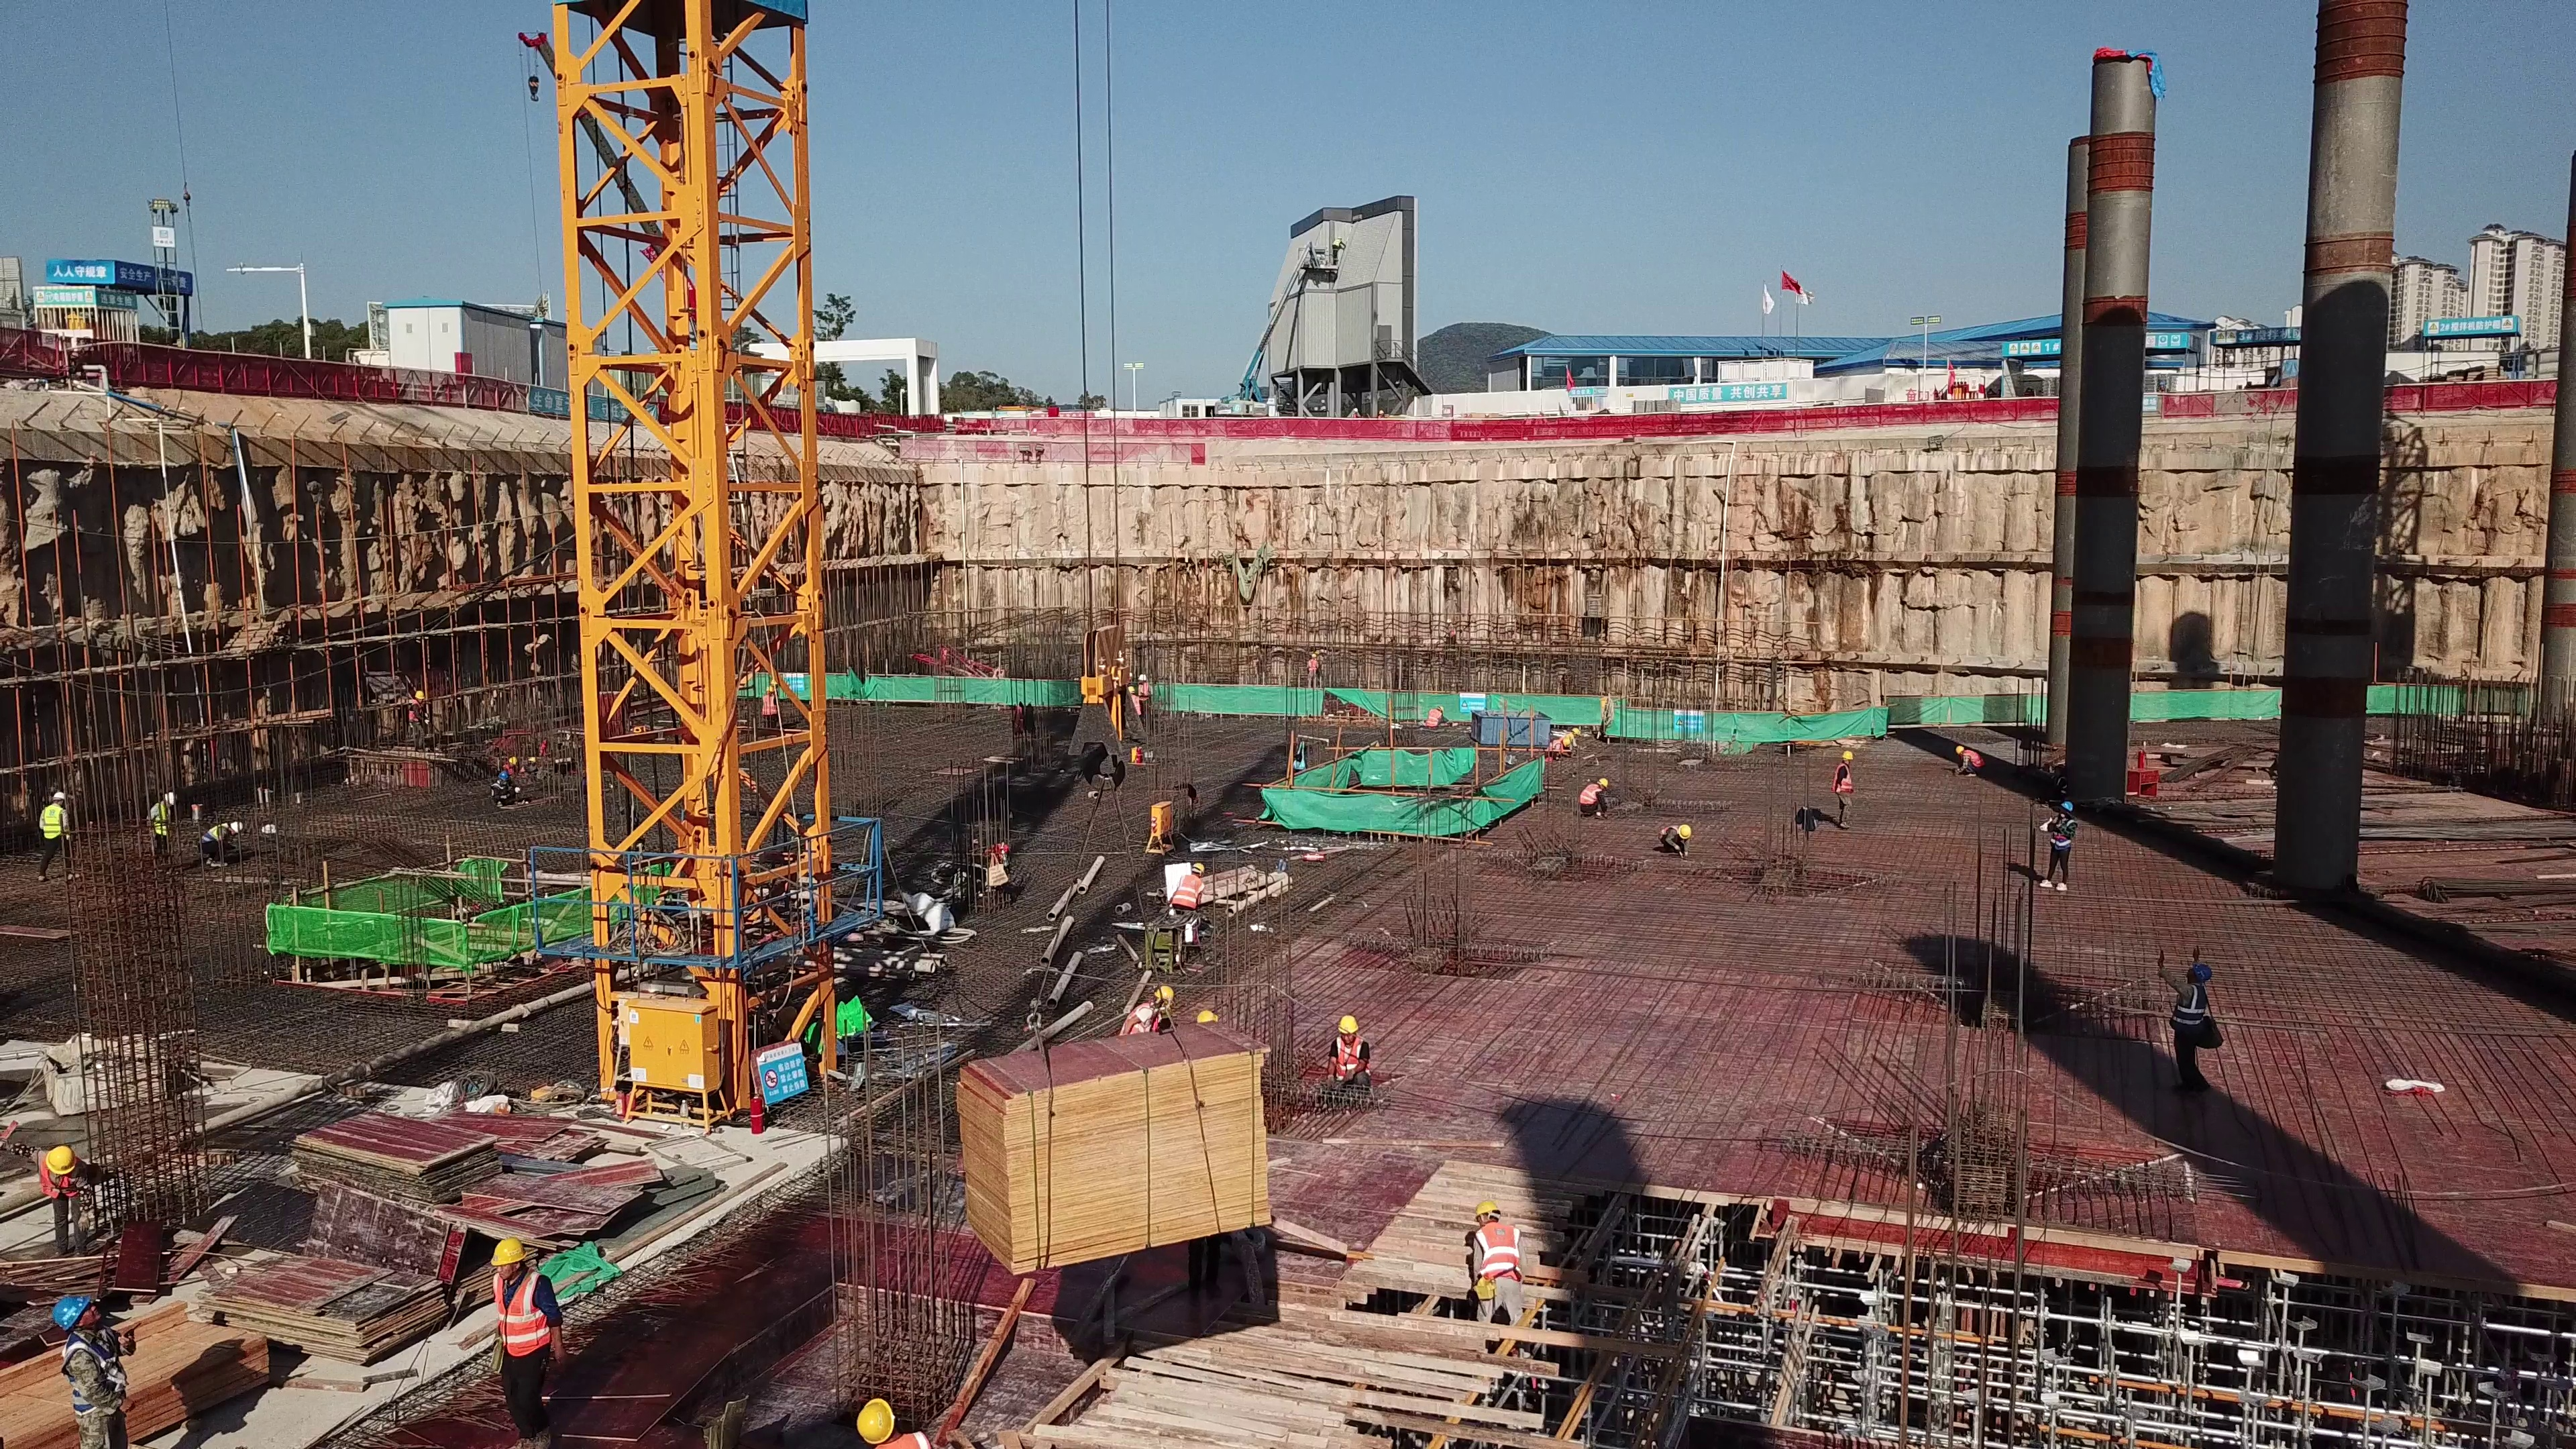board: (940, 1002, 1332, 1244), (272, 1090, 468, 1366)
brick: (1629, 394, 1682, 414)
ebox: (628, 983, 717, 1124), (1146, 802, 1177, 853)
fence: (155, 332, 452, 405), (1506, 414, 1778, 433)
helmet: (54, 1283, 93, 1326), (857, 1401, 898, 1438), (493, 1240, 532, 1274), (42, 1144, 75, 1171), (1192, 1000, 1219, 1030), (1471, 1197, 1503, 1215), (1333, 1010, 1359, 1032), (2192, 963, 2213, 981), (1157, 983, 1171, 1001), (1678, 824, 1693, 840), (164, 789, 177, 805), (231, 818, 244, 833), (1193, 861, 1204, 875), (1838, 750, 1854, 761), (2053, 799, 2070, 810), (1598, 777, 1612, 788), (1953, 745, 1966, 755), (52, 792, 66, 800), (1562, 736, 1569, 748), (1570, 728, 1581, 735), (1127, 686, 1138, 694), (1136, 674, 1147, 681), (1310, 651, 1320, 657)
hook: (1076, 628, 1135, 786), (519, 58, 541, 115)
hopper: (1464, 707, 1552, 745)
person: (474, 1228, 580, 1446), (1452, 1187, 1554, 1336), (43, 1283, 131, 1449), (36, 1134, 117, 1272), (2151, 948, 2216, 1104), (25, 784, 83, 890), (845, 1388, 928, 1449), (1322, 1008, 1374, 1091), (192, 812, 257, 877), (2039, 793, 2080, 894), (136, 786, 181, 875), (1117, 982, 1182, 1034), (1826, 747, 1862, 832), (1172, 859, 1205, 918), (405, 686, 433, 757), (1651, 821, 1696, 862), (1575, 776, 1615, 821), (1949, 740, 1987, 782), (1546, 727, 1582, 762), (491, 768, 521, 810), (759, 678, 783, 729), (1424, 698, 1448, 731), (1126, 682, 1144, 724), (1301, 651, 1321, 687), (1134, 676, 1154, 700)
slogan: (514, 374, 682, 434), (124, 254, 193, 294), (2004, 339, 2191, 353), (2426, 313, 2518, 336), (1672, 382, 1785, 400), (55, 249, 129, 276), (2218, 325, 2310, 347), (40, 283, 101, 313)
vest: (64, 1325, 125, 1426), (487, 1273, 554, 1358), (1478, 1224, 1521, 1285), (2174, 981, 2206, 1029), (1332, 1035, 1367, 1079), (38, 808, 67, 846), (1120, 1008, 1163, 1032), (1177, 873, 1202, 909), (2051, 816, 2076, 848), (197, 824, 229, 846), (1834, 763, 1856, 794), (150, 804, 169, 836), (1577, 784, 1598, 807), (1966, 749, 1983, 767), (1661, 821, 1680, 837), (1548, 738, 1562, 756), (1307, 660, 1319, 673)
wood: (1069, 1291, 1485, 1446)
